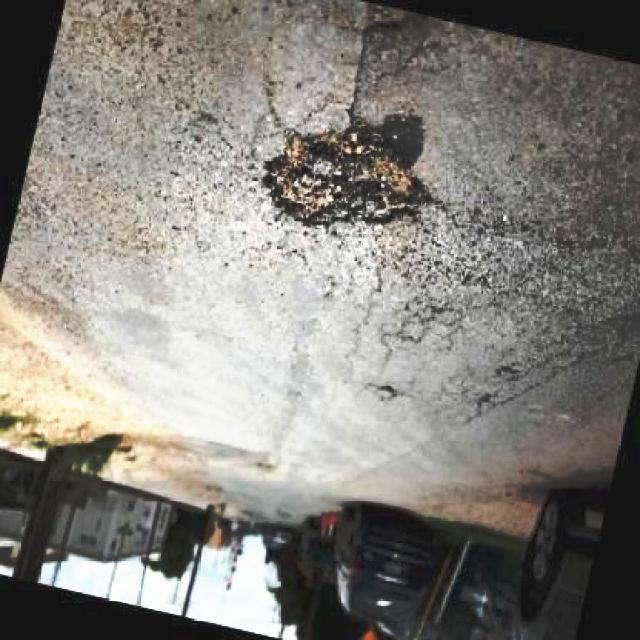pothole: (266, 112, 425, 231)
